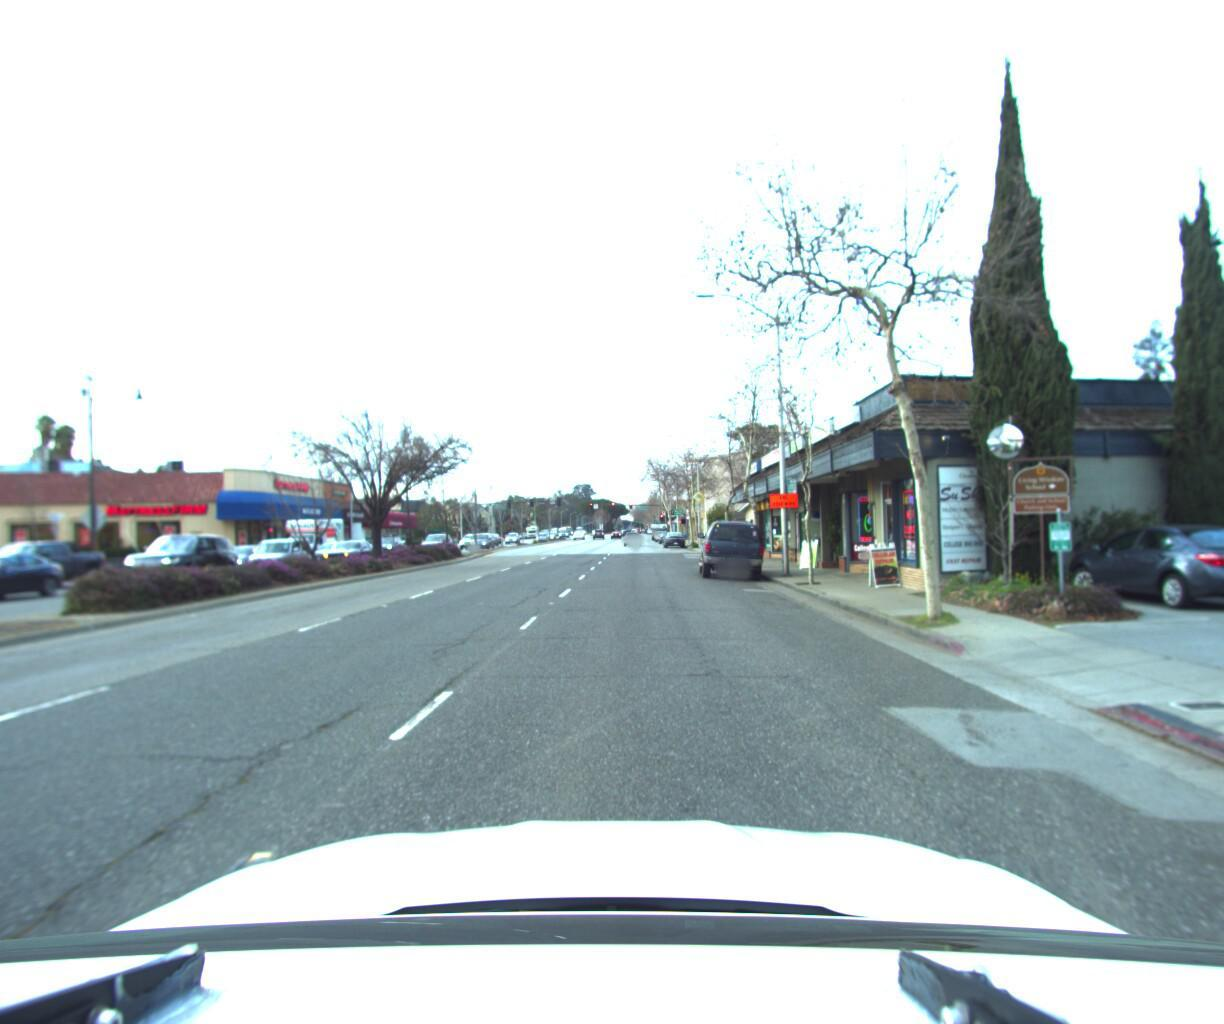car: (1053, 513, 1224, 610), (0, 540, 192, 595), (1156, 490, 1224, 596), (118, 534, 240, 582), (695, 515, 768, 579), (0, 552, 75, 611), (247, 537, 318, 573), (211, 544, 281, 575), (317, 540, 375, 567), (659, 526, 688, 545), (468, 534, 494, 550), (623, 526, 642, 545)
truck: (273, 515, 352, 562)
